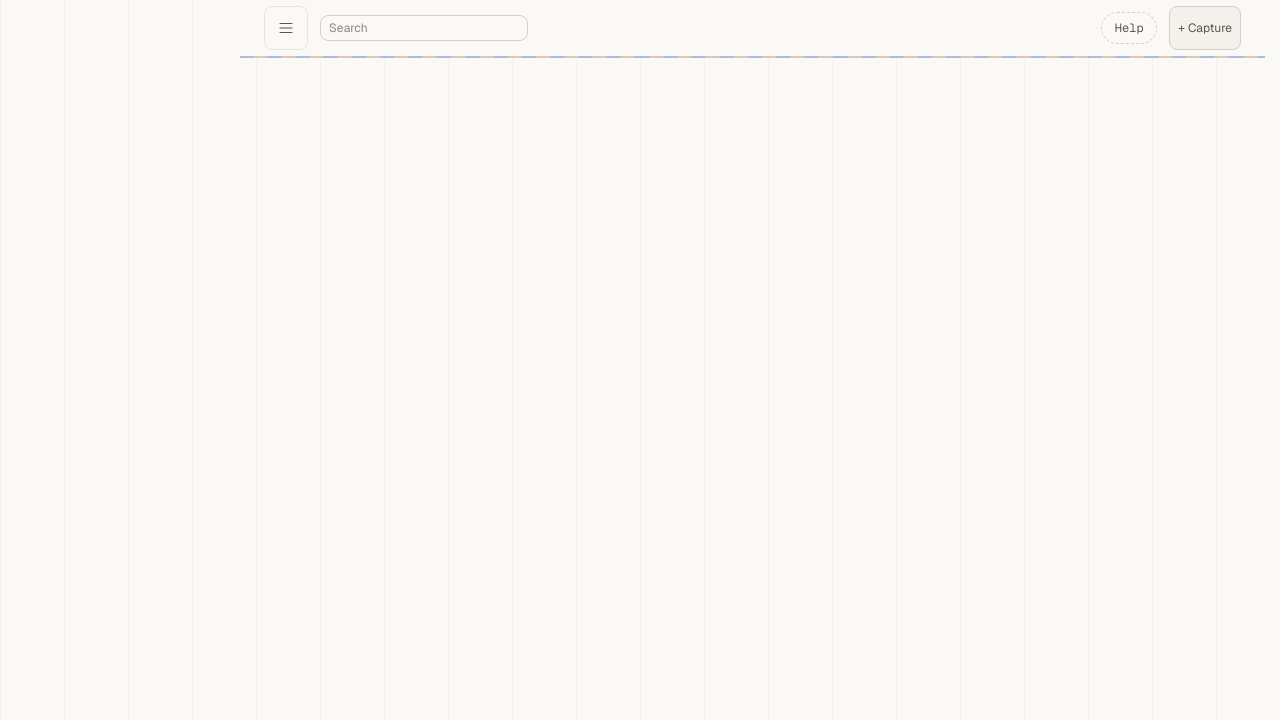
Test: the navigation shell › hands the mobile drawer to Search without opening Capture
The image size is (1280, 720).
Click the button named "Open navigation".
click(286, 28)  # box [264,6,308,50]
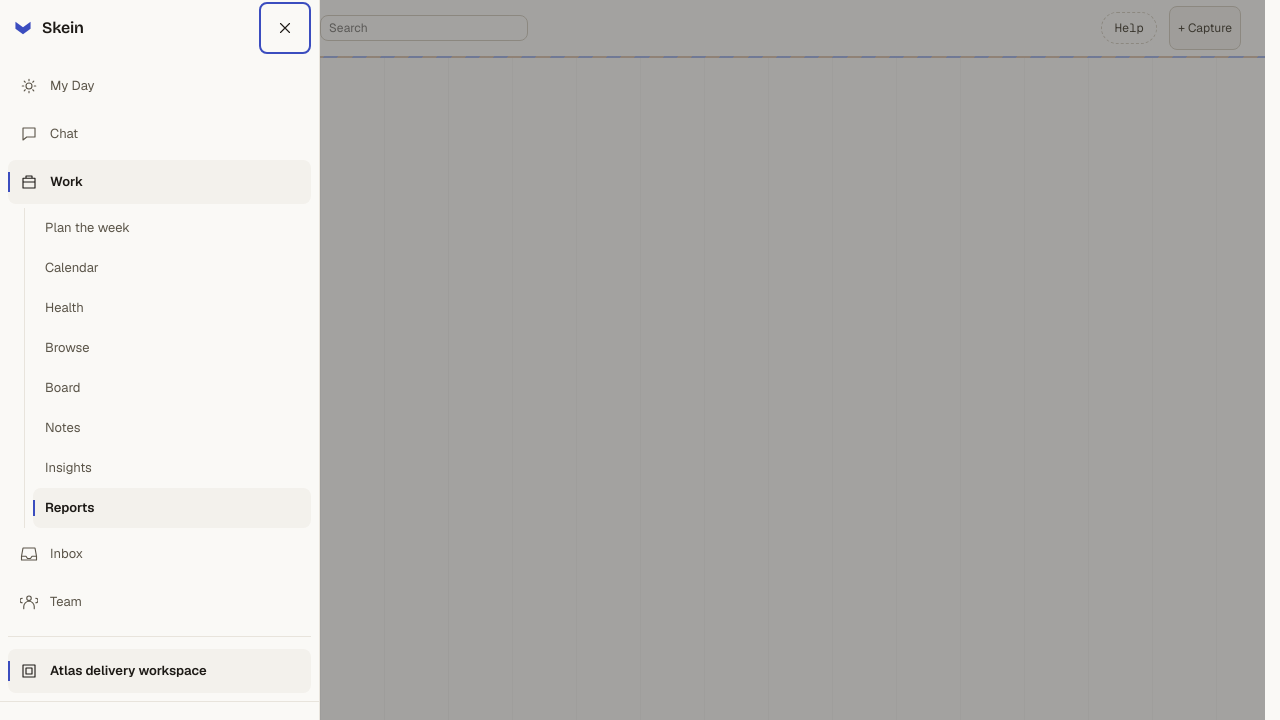
Press k
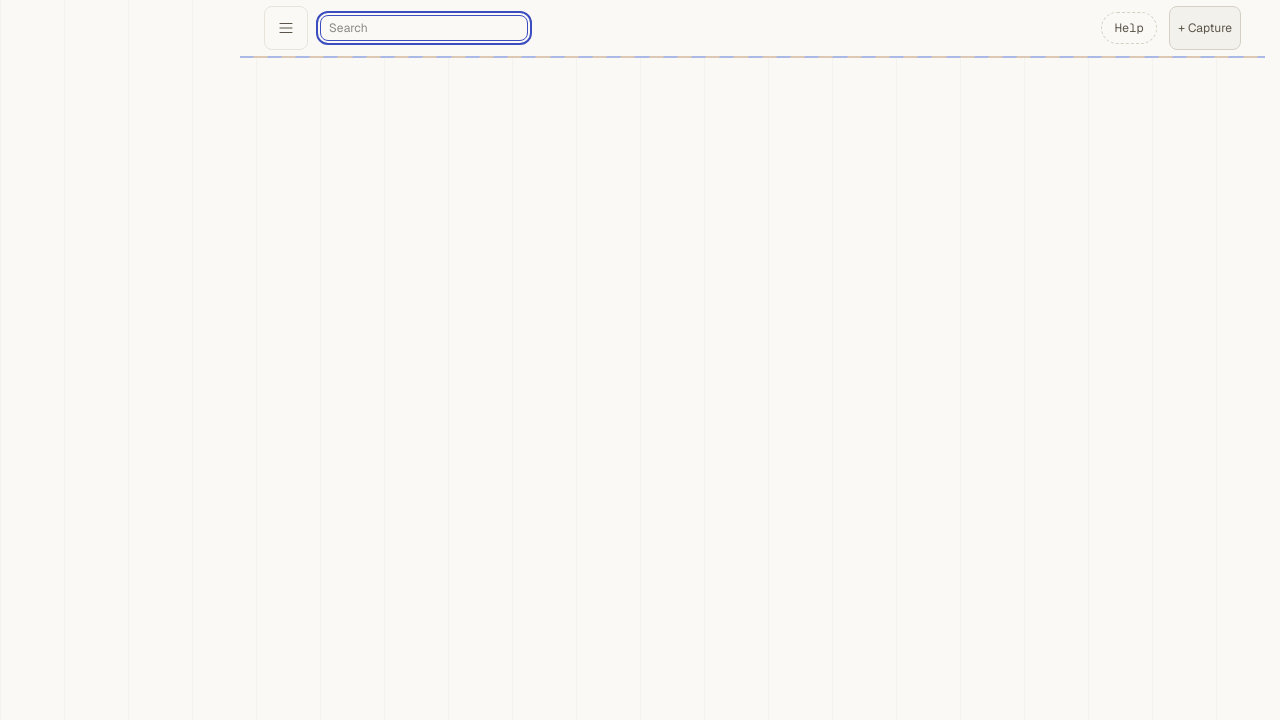
Result: the button "Navigation" is gone
